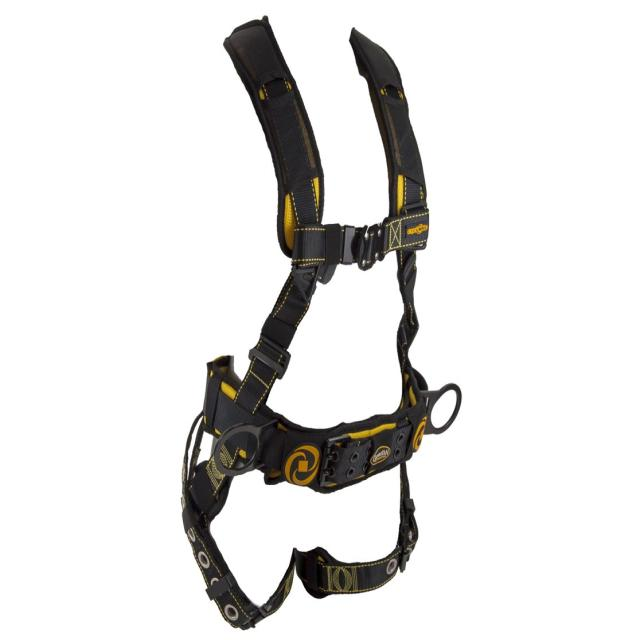Harness: (157, 3, 472, 639)
